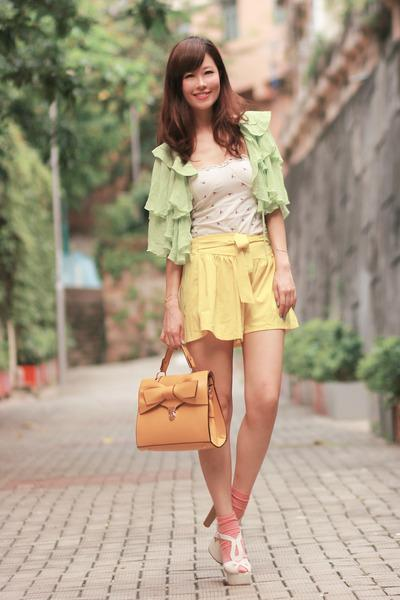bag: (136, 371, 231, 450)
shirt: (145, 111, 288, 273), (180, 132, 263, 234)
shoe: (224, 540, 250, 572)
shorts: (185, 222, 298, 341)
